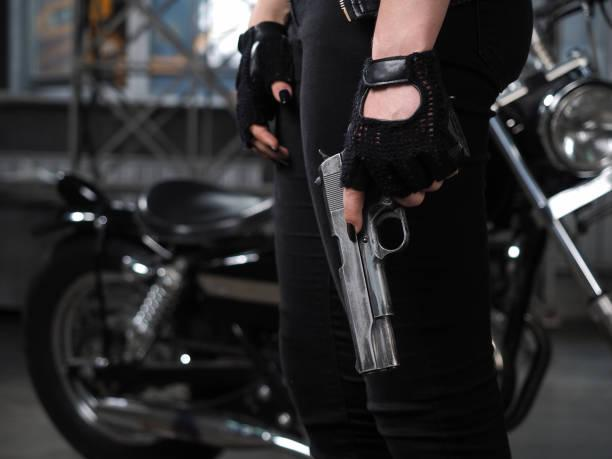weapon: (310, 143, 437, 379)
